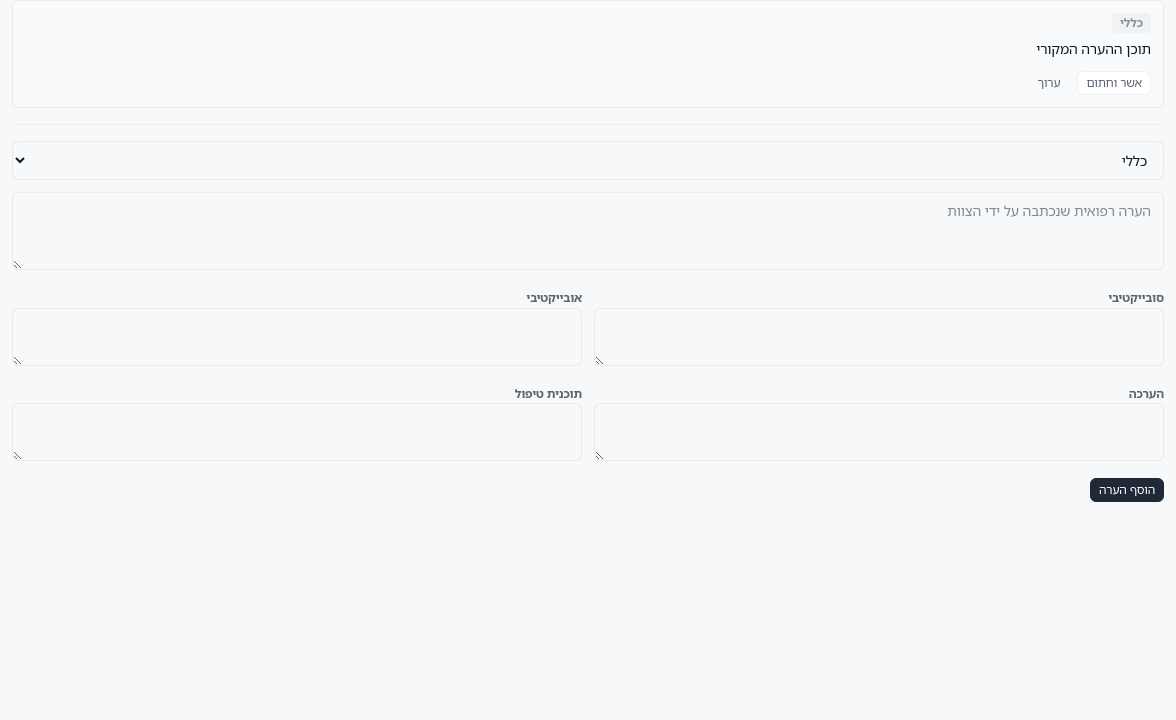
Test: VisitNotesSection › shows an approve error message when the approve request fails
The image size is (1176, 720).
Click the button "אשר וחתום" at (1114, 83), box [1077, 71, 1151, 95]
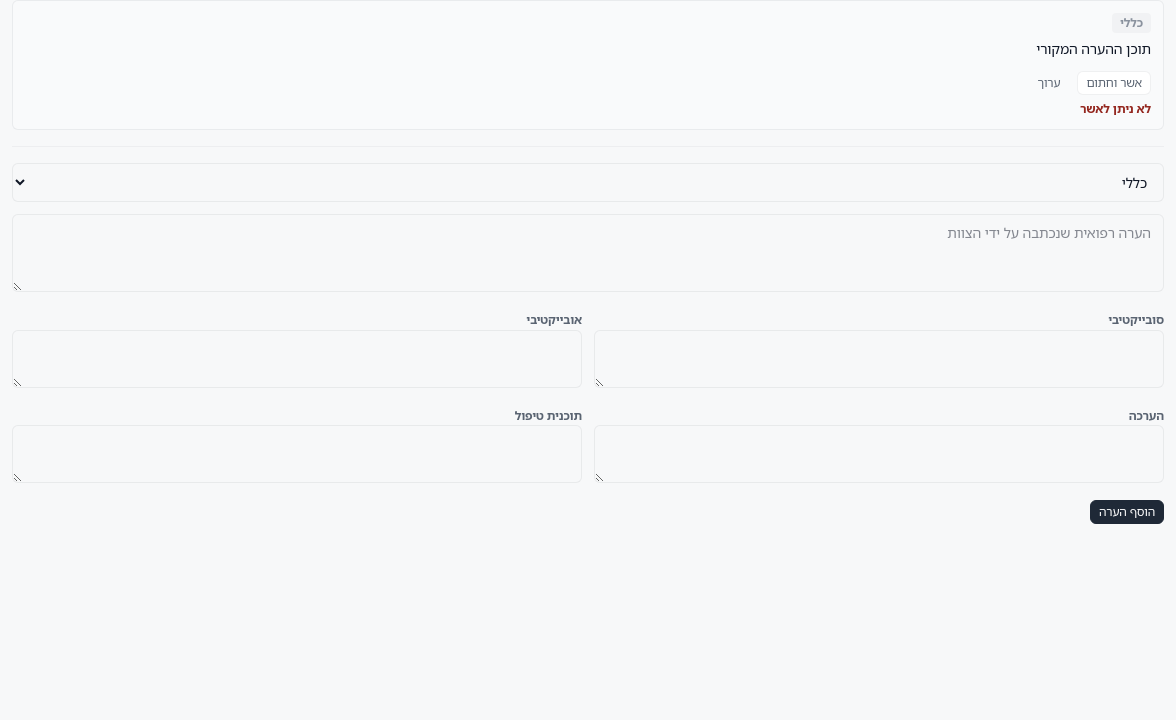
Expected: the text "לא ניתן לאשר" is shown, [1080, 100, 1151, 117]
